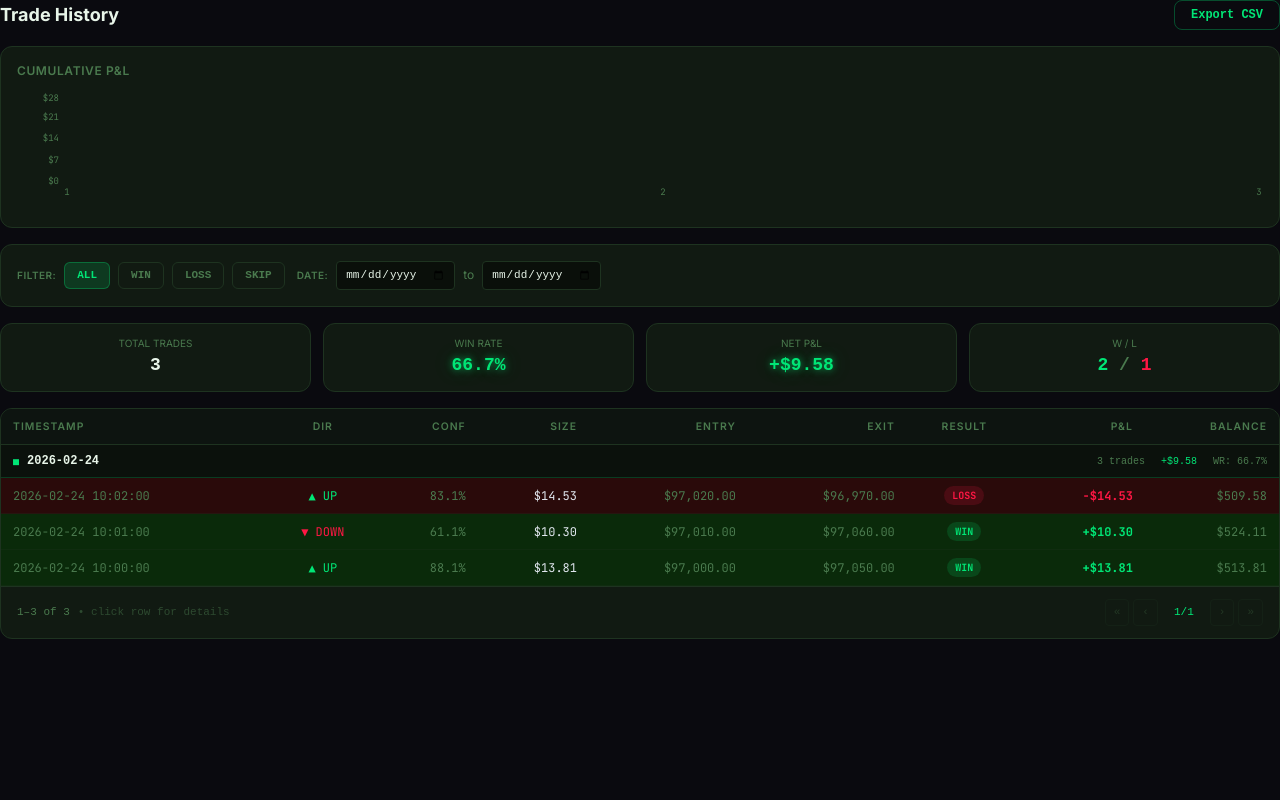
Test: HistoryPage › trade detail modal › opens modal when clicking a trade row
This screenshot has width=1280, height=800.
What coordinates should you click on to do the following:
click the row that starts with "LOSS"
I would click on:
 (640, 496)
Its box is 1,478 -> 1279,514.
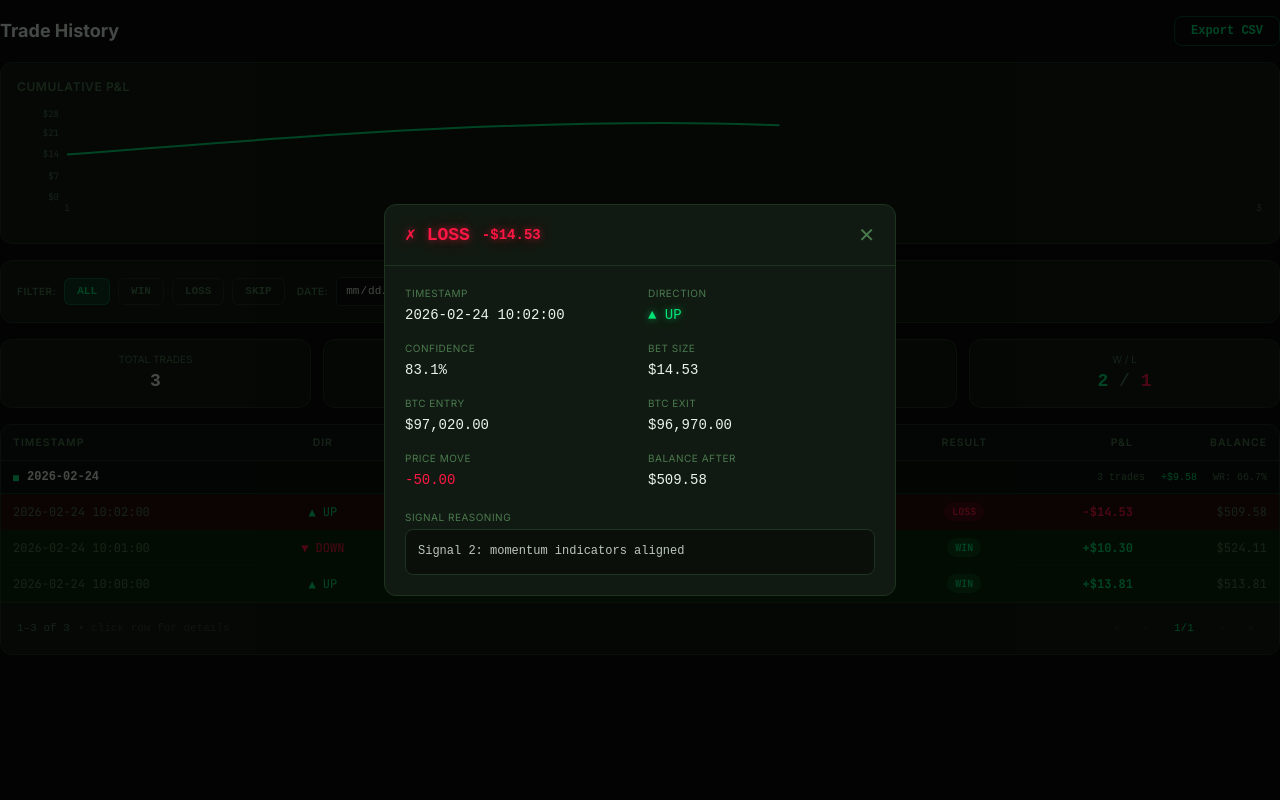
Check: the text "Signal Reasoning" is shown, box 405,511 -> 511,523
